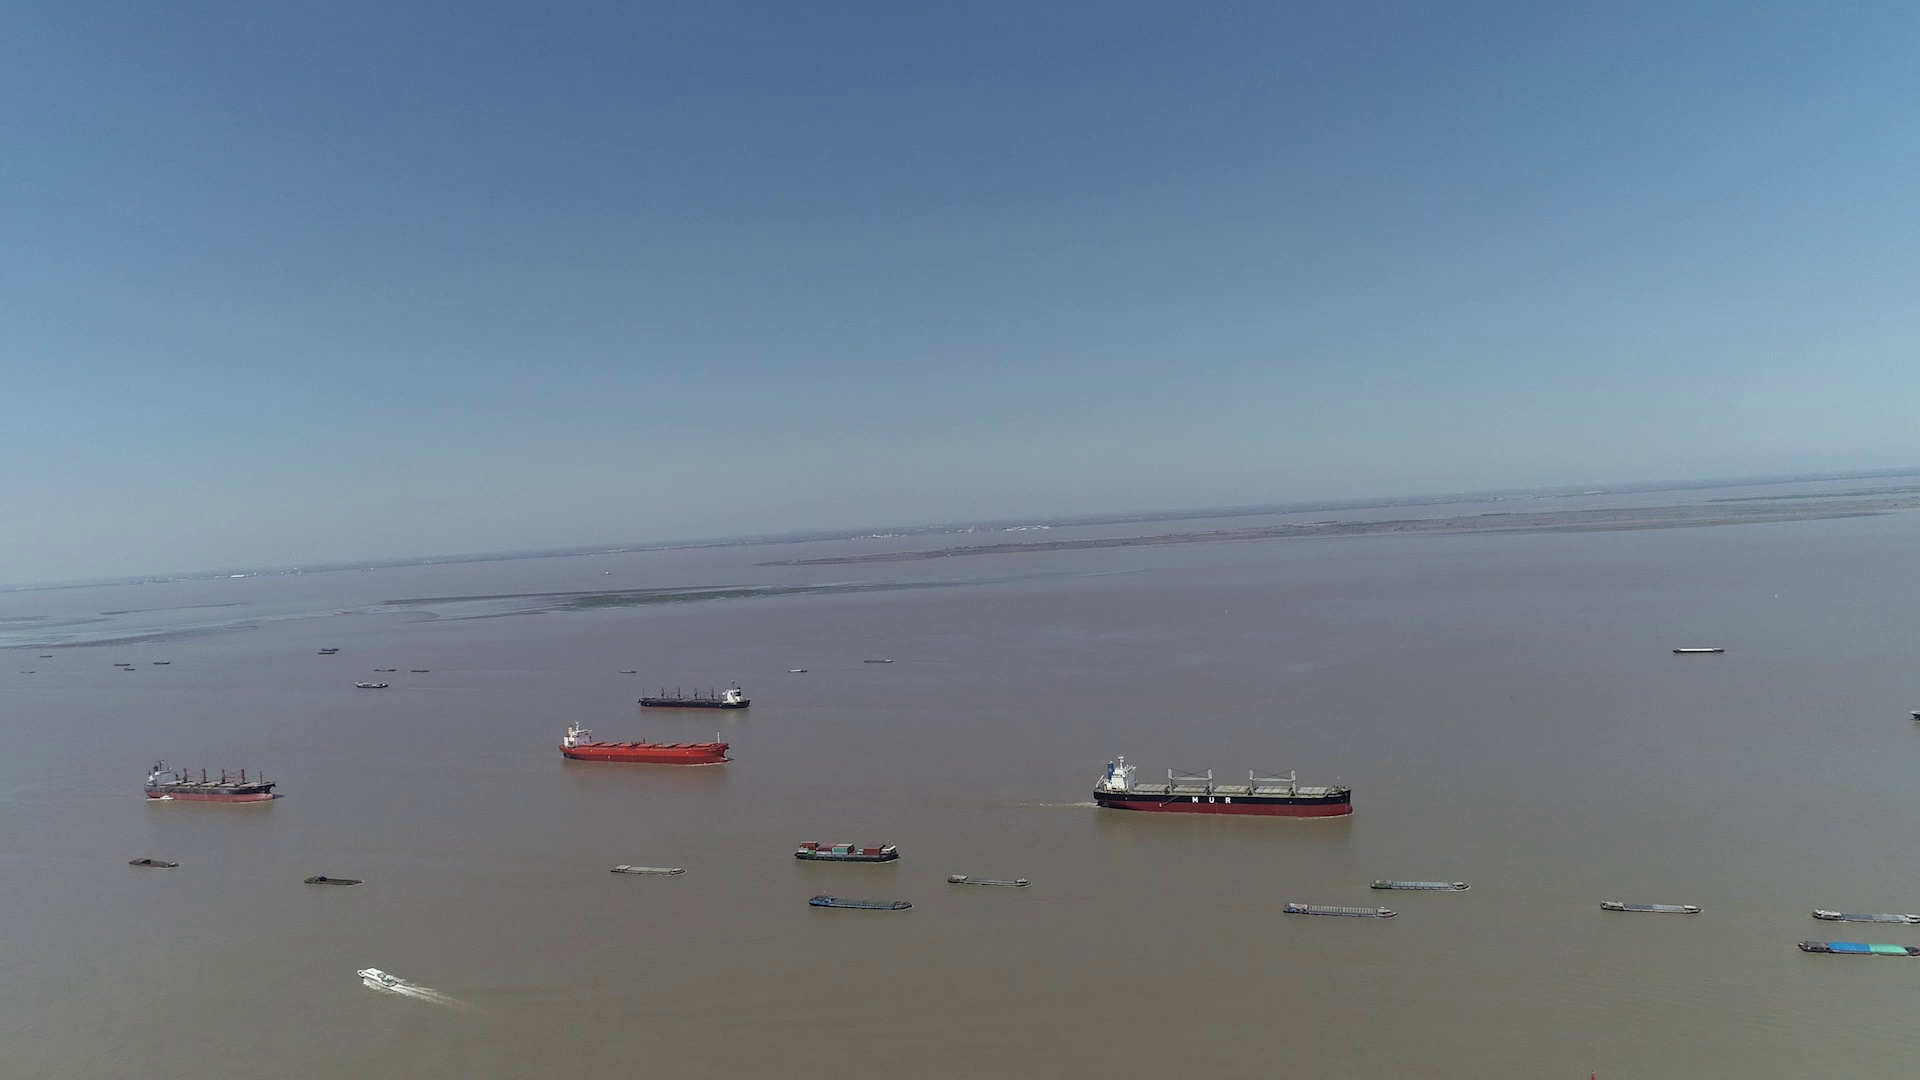ship: (1095, 752, 1353, 819), (556, 723, 727, 765), (145, 756, 274, 802), (640, 682, 752, 708), (1793, 935, 1919, 956), (795, 841, 899, 864), (1284, 901, 1398, 919), (1813, 906, 1917, 924), (1601, 898, 1702, 916), (807, 893, 909, 910), (357, 967, 426, 992), (1371, 876, 1466, 891), (949, 872, 1030, 887), (608, 862, 682, 876), (305, 876, 360, 887), (1673, 646, 1722, 655), (129, 858, 178, 866), (357, 679, 390, 688)
